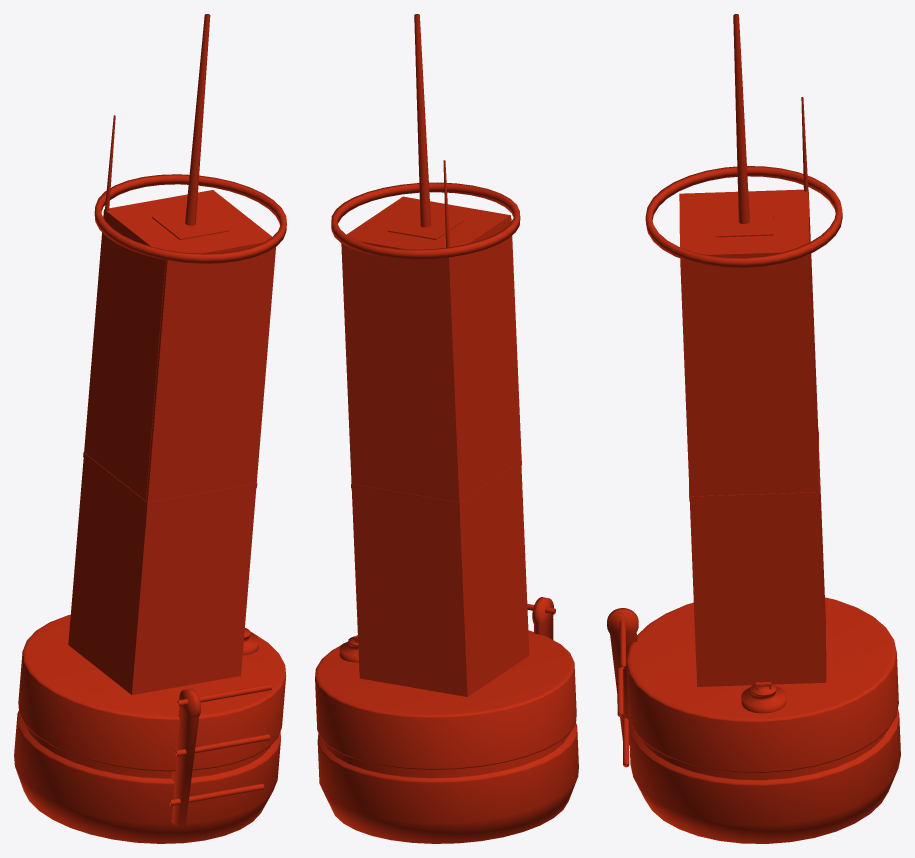
File: Buoy Model.dae
3 views of the same model, side by side, from view 1: azimuth 30°, elevation 25°; view 2: azimuth 150°, elevation 25°; view 3: azimuth 270°, elevation 25° (orthographic). The views are drawn at different scales.
Visible parts, largest first — view 1: Cube, Cylinder, Circle.001, Circle, Cylinder.004, Cube.003, Plane.002, Cylinder.003, Cylinder.002, Cylinder.001; view 2: Cube, Cylinder, Circle.001, Cylinder.004, Cube.003, Plane.002, Circle, Plane.003; view 3: Cube, Cylinder, Circle.001, Cylinder.004, Cube.003, Circle, Circle.002, Plane.002.
Part boxes in pixels (left/top/right/bottom): Cube: left=68, top=190, right=275, bottom=694; Cylinder: left=14, top=614, right=286, bottom=843; Circle.001: left=94, top=174, right=286, bottom=263; Circle: left=171, top=688, right=201, bottom=827; Cylinder.004: left=185, top=14, right=210, bottom=225; Cube.003: left=152, top=208, right=228, bottom=240; Plane.002: left=83, top=452, right=257, bottom=507; Cylinder.003: left=169, top=783, right=264, bottom=805; Cylinder.002: left=175, top=734, right=270, bottom=756; Cylinder.001: left=177, top=684, right=271, bottom=706; Cube: left=341, top=196, right=529, bottom=696; Cylinder: left=315, top=630, right=578, bottom=843; Circle.001: left=331, top=182, right=520, bottom=259; Cylinder.004: left=414, top=14, right=431, bottom=227; Cube.003: left=388, top=212, right=463, bottom=239; Plane.002: left=351, top=461, right=521, bottom=506; Circle: left=532, top=597, right=553, bottom=639; Plane.003: left=509, top=218, right=521, bottom=461; Cube: left=679, top=189, right=826, bottom=686; Cylinder: left=626, top=597, right=900, bottom=843; Circle.001: left=645, top=166, right=842, bottom=267; Cylinder.004: left=733, top=14, right=749, bottom=223; Cube.003: left=715, top=206, right=773, bottom=237; Circle: left=607, top=608, right=638, bottom=745; Circle.002: left=741, top=682, right=786, bottom=713; Plane.002: left=689, top=430, right=819, bottom=500.
Bounding box in the file's own units: 1.32 × 1.39 × 4.19.
